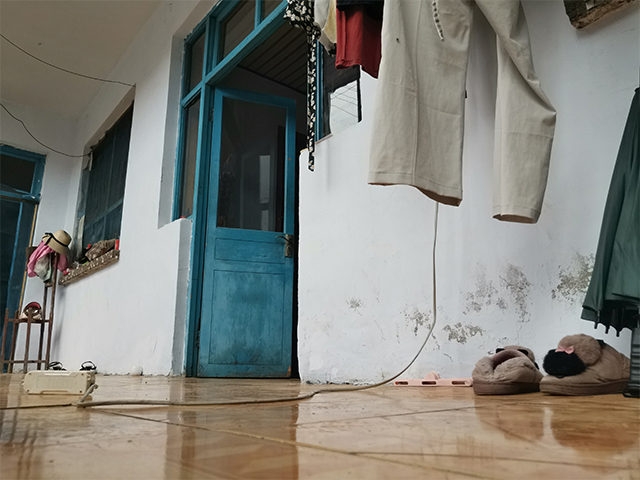slippers: (542, 333, 634, 398), (468, 345, 544, 397)
wire: (1, 199, 441, 412)
